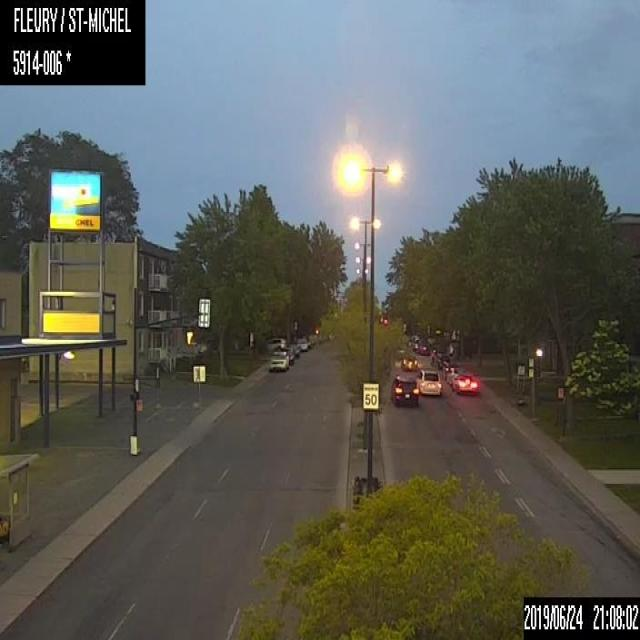vehicle: (391, 373, 418, 406), (414, 367, 442, 396), (450, 372, 480, 394), (442, 360, 465, 384), (267, 350, 288, 372), (430, 349, 449, 369), (265, 336, 286, 351), (400, 354, 418, 371), (281, 346, 294, 364), (418, 338, 432, 354), (295, 334, 309, 350)
